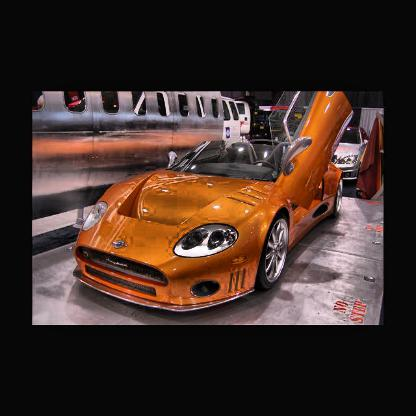Spyker C8 Convertible 2009: (73, 93, 360, 319)
